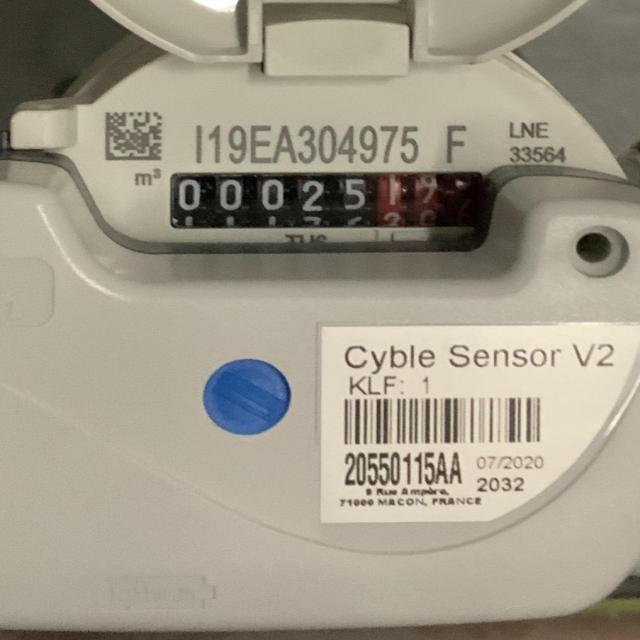gaz_meter: (49, 42, 614, 330)
indication: (171, 172, 441, 228)
